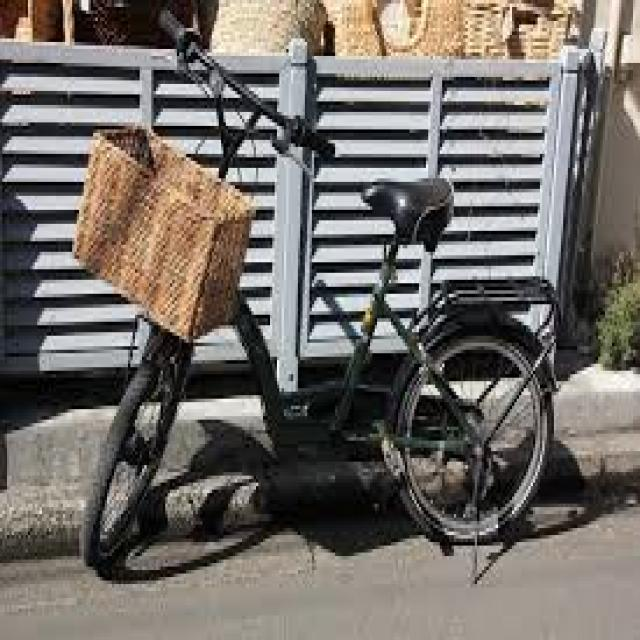basket: (71, 122, 254, 339)
